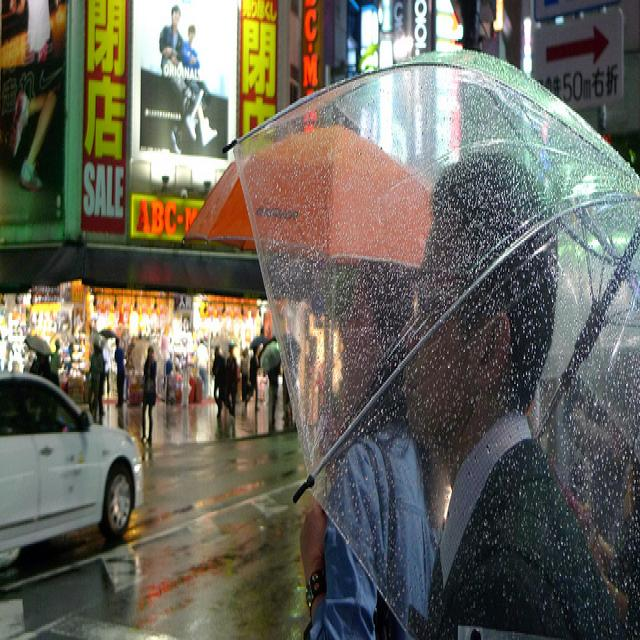Vehicle: (4, 371, 149, 556)
